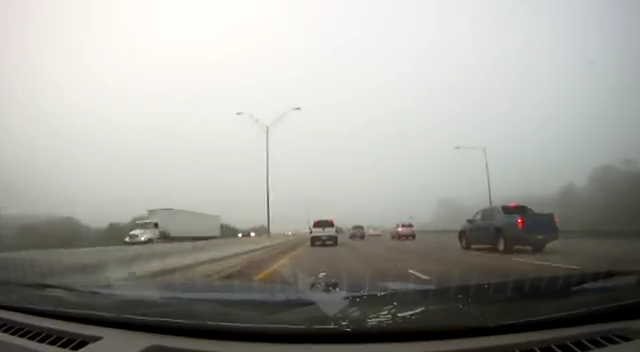bus: (124, 208, 221, 248)
car: (457, 203, 560, 252), (308, 218, 340, 245), (390, 222, 416, 240), (237, 228, 262, 243), (348, 224, 367, 239), (367, 225, 384, 237)
